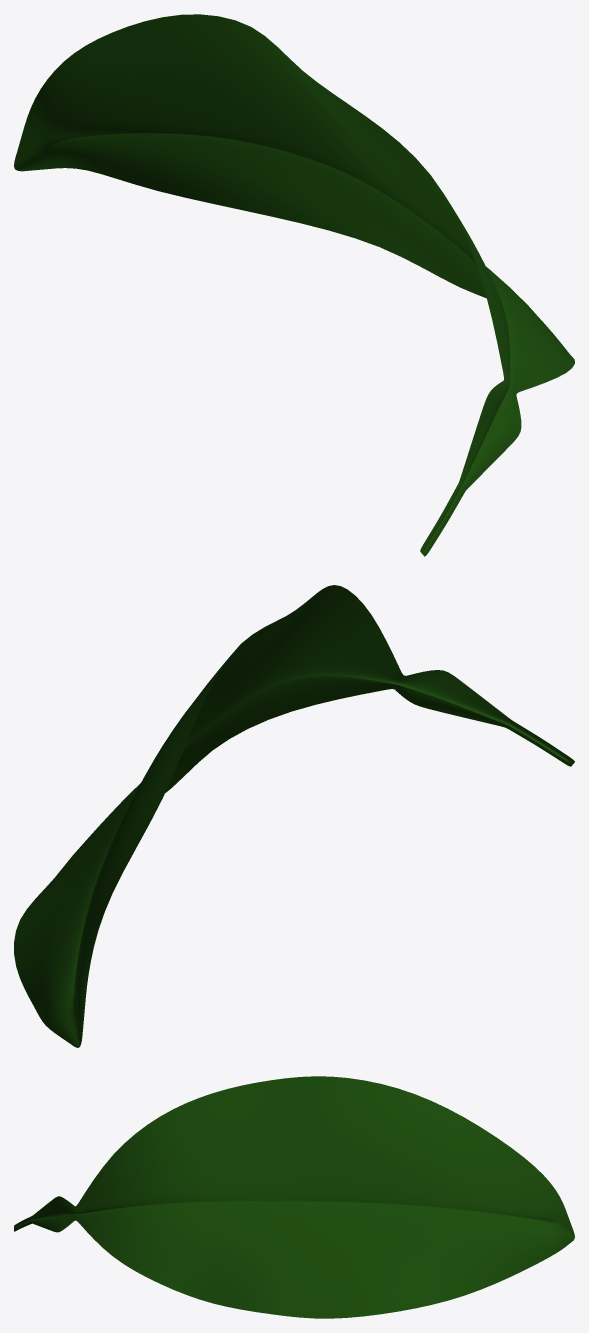
Rendered from leaf.glb.
3 renders of one model, top to bottom at view 1: azimuth 30°, elevation 25°; view 2: azimuth 150°, elevation 25°; view 3: azimuth 270°, elevation 25°, orthographic. The views are drawn at different scales.
Parts seen in each view (by area): view 1: Object_3; view 2: Object_3; view 3: Object_3.
Part boxes in pixels (x1,y1,x2,y2): Object_3: (14,14,574,556); Object_3: (14,585,574,1047); Object_3: (14,1076,574,1318).
Bounding box in the file's own units: 0.0674 × 0.0639 × 0.1772.
